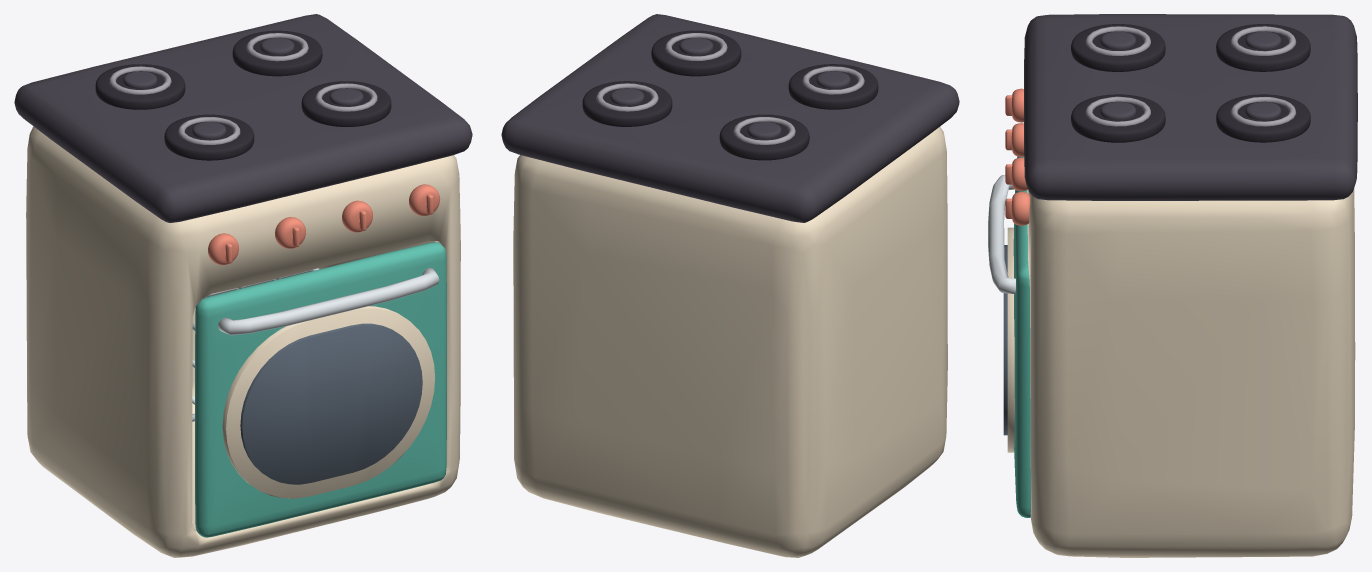
File: stove_a.glb
3 renders of one model, left to right at view 1: azimuth 30°, elevation 25°; view 2: azimuth 150°, elevation 25°; view 3: azimuth 270°, elevation 25°, orthographic. The views are drawn at different scales.
Visible parts, largest first — view 1: body, door; view 2: body; view 3: body, door.
Part boxes in pixels (box(x1,y1,x2,y2)): body: box(14, 14, 472, 557); door: box(195, 242, 446, 537); body: box(501, 14, 959, 557); body: box(1005, 14, 1357, 557); door: box(988, 156, 1030, 517).
Size of the model in its own units: 0.7701 by 0.9316 by 0.7421.
